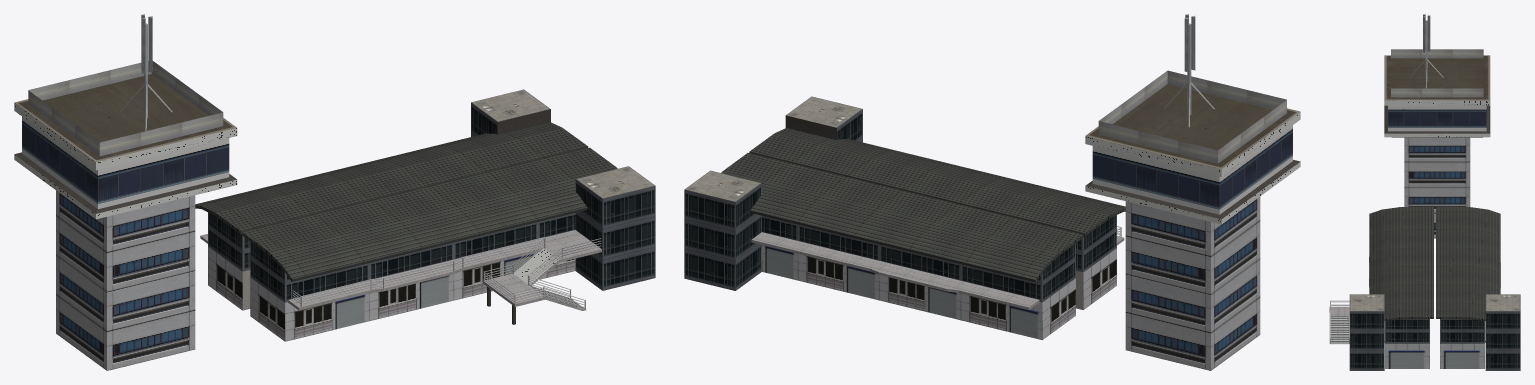
File: Buildings05.fbx
The picture shows the model from 3 angles, left to right: view 1: azimuth 30°, elevation 25°; view 2: azimuth 150°, elevation 25°; view 3: azimuth 270°, elevation 25°; orthographic projection. The views are drawn at different scales.
Visible parts, largest first — view 1: Empty_Mesh; view 2: Empty_Mesh; view 3: Empty_Mesh.
Boxes of the visible parts, bbox=[...] form: Empty_Mesh: bbox=[14, 14, 655, 370]; Empty_Mesh: bbox=[684, 14, 1300, 370]; Empty_Mesh: bbox=[1329, 14, 1520, 370].
Size of the model in its own units: 60.34 by 35.5 by 28.86.
